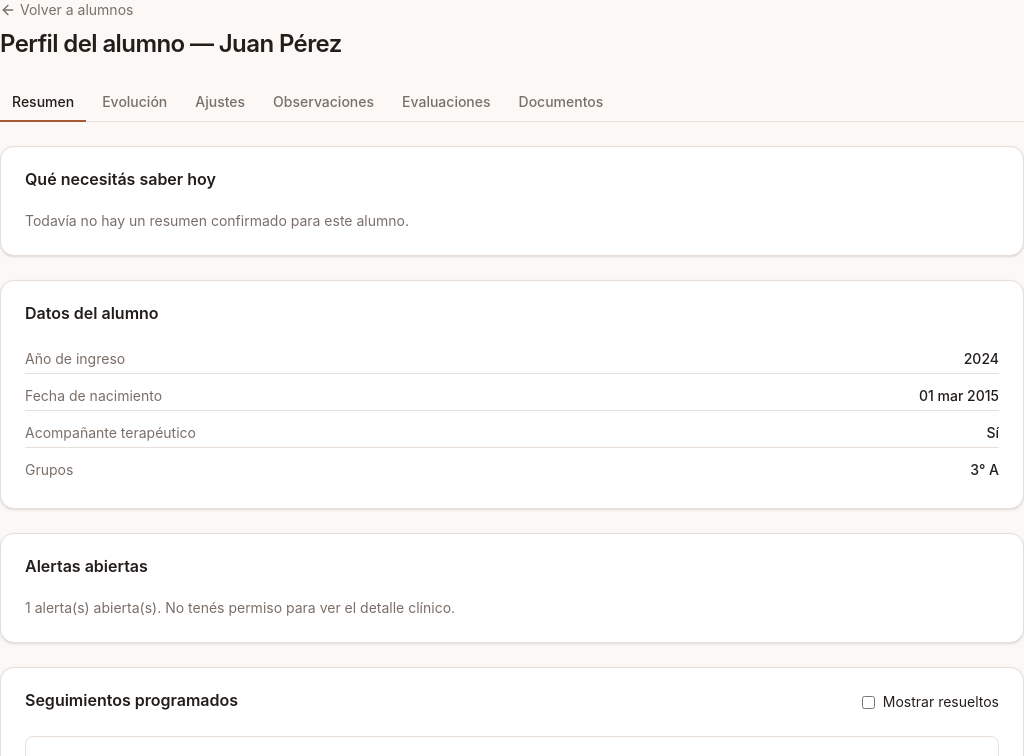
Scenario: StudentTrackingPage › shows an empty state for per-subject performance when there are no scores
Click the tab "Evaluaciones": [446, 103] box [390,84,502,122]
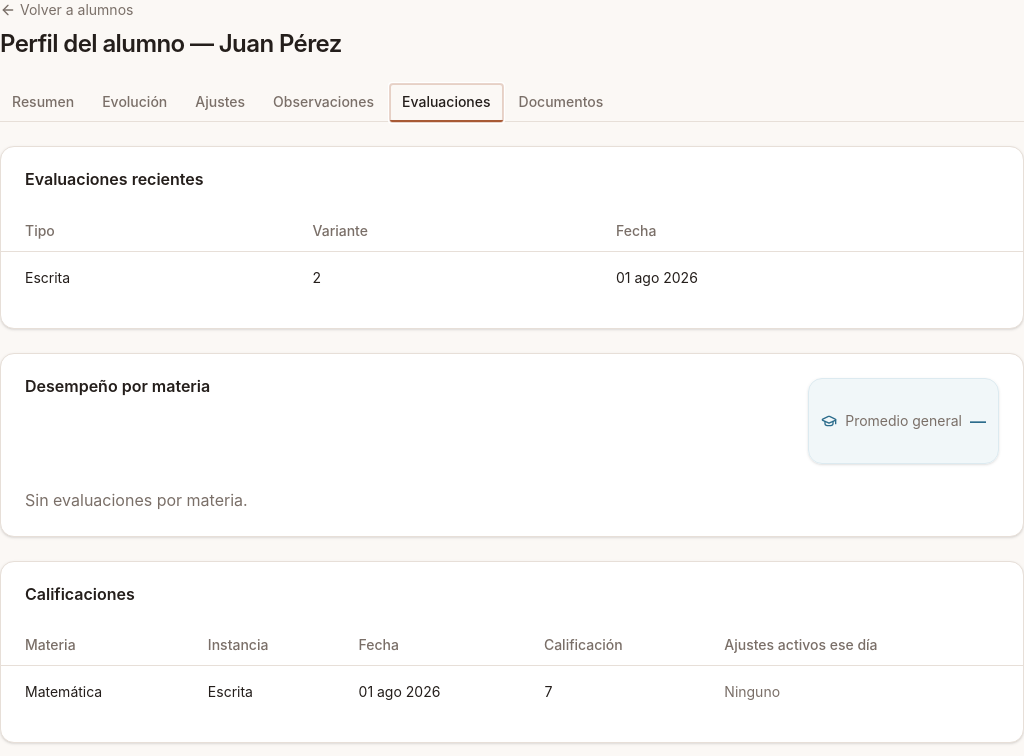
Expected: the heading "Perfil del alumno — Juan Pérez" is shown, [0,28,342,60]
Now the text "Sin evaluaciones por materia." is shown, box [25,490,248,510]
